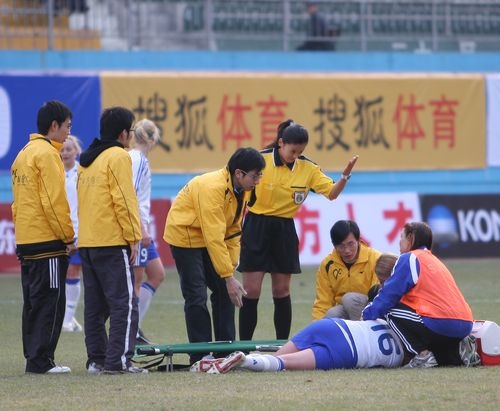falling: (214, 306, 440, 375)
